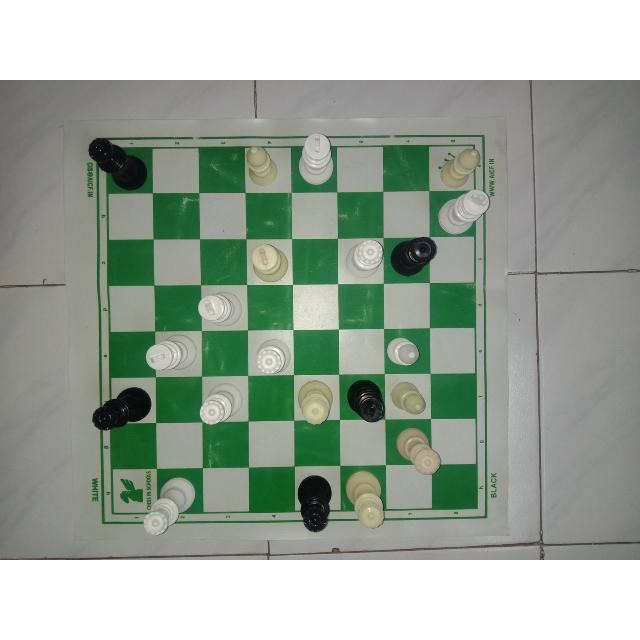black-king: (345, 377, 387, 425)
black-queen: (86, 136, 148, 194), (91, 381, 155, 431), (294, 470, 332, 536), (388, 236, 436, 280)
white-bishop: (432, 145, 481, 187), (388, 378, 434, 418), (244, 144, 282, 192), (384, 328, 422, 370)
white-king: (435, 188, 494, 236), (143, 330, 203, 374), (293, 130, 336, 190), (198, 284, 250, 329), (248, 239, 292, 282)
white-queen: (141, 472, 202, 536), (342, 467, 388, 533), (393, 423, 442, 479), (292, 373, 332, 433), (199, 379, 244, 426), (344, 238, 384, 283), (252, 334, 296, 374)
